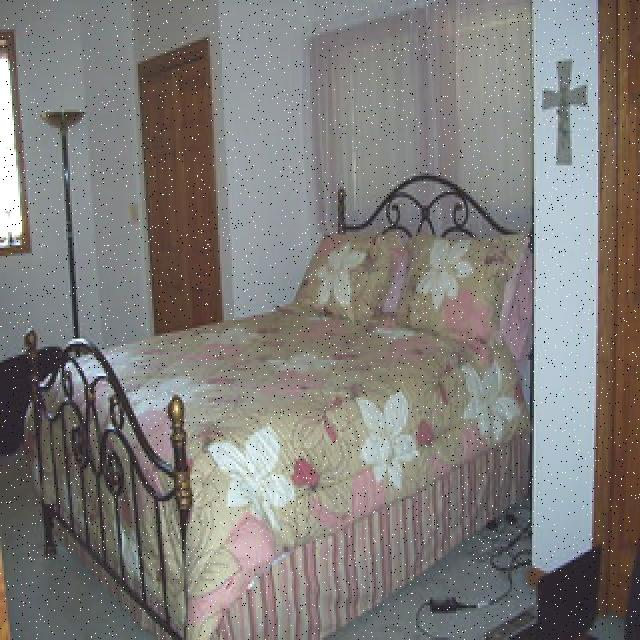bed: (27, 175, 540, 580)
